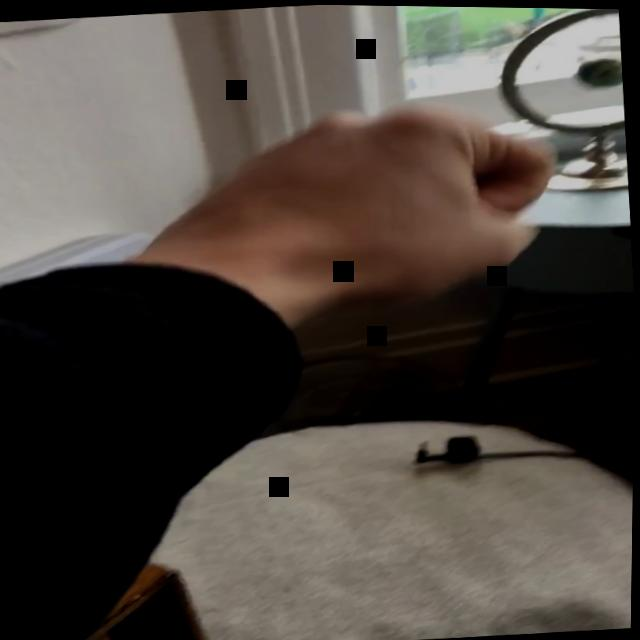Rock: (176, 93, 568, 317)
